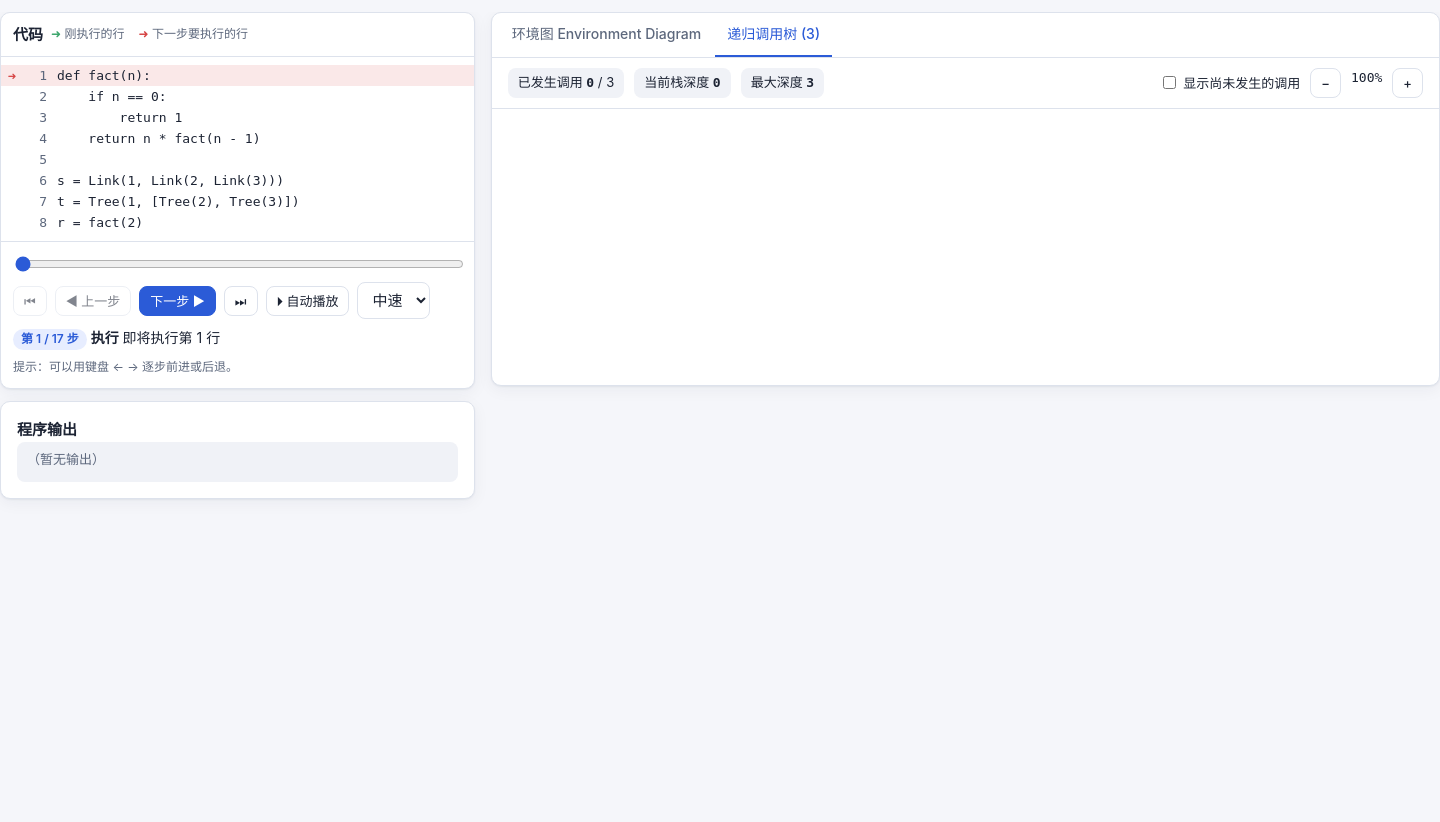
Test: Visualizer › shows CS61A frames, linked lists and trees in the environment diagram
Later steps or results of the test are not shown.
Click the button "环境图 Environment Diagram": (606, 35) 500,13 -> 713,57
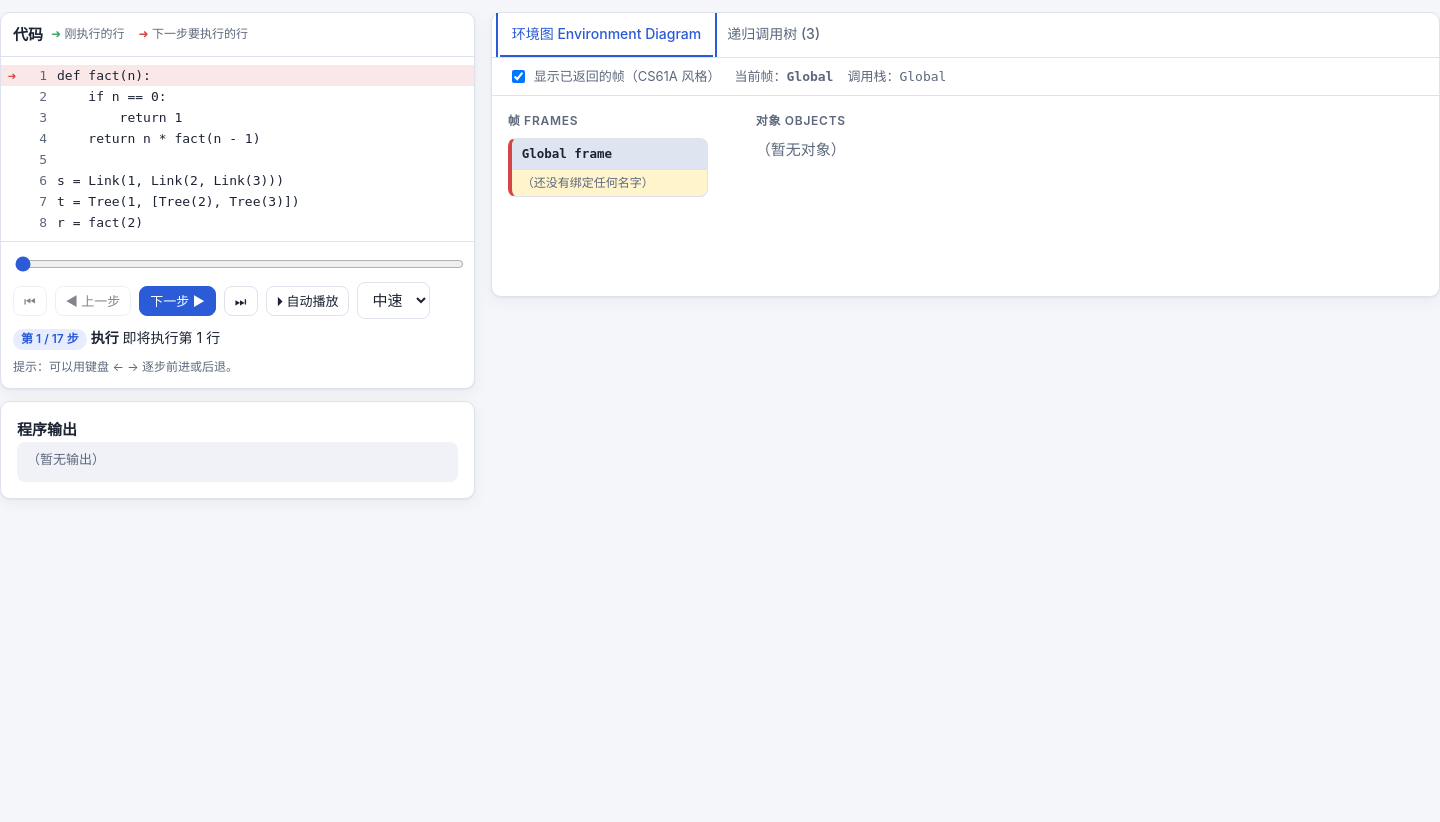
Click the button named "最后一步": (241, 301) 224,286 -> 258,316
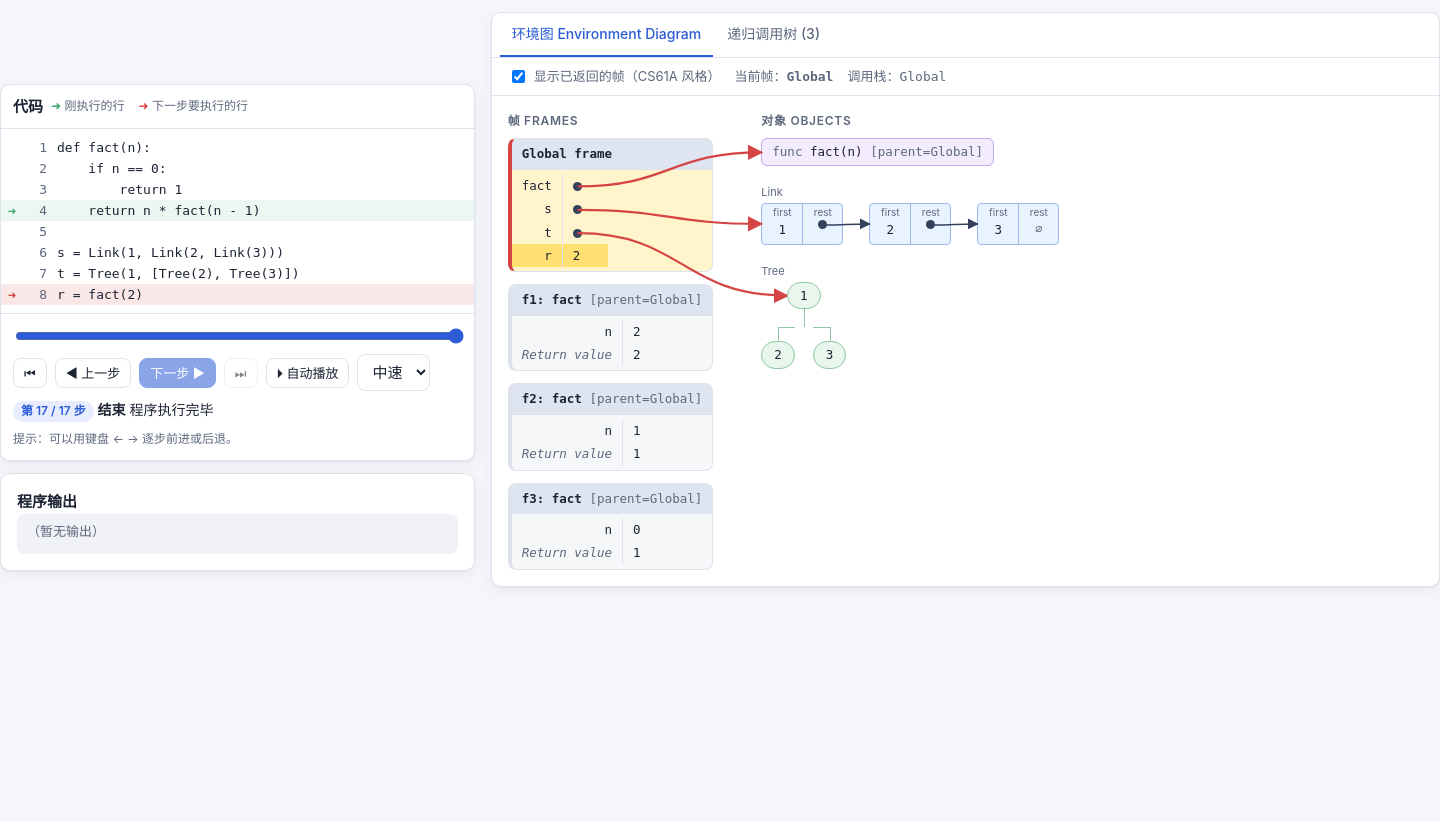
Expected: the text "Return value" is shown 3 times, 512,343 -> 622,366; 512,442 -> 622,466; 512,541 -> 622,565
Expected: the number of elements with class "link-node" is 3, 761,203 -> 843,245; 869,203 -> 951,245; 977,203 -> 1059,245
Expected: the number of elements with class "tree-node" is 3, 787,282 -> 821,309; 761,341 -> 795,368; 813,341 -> 846,368
